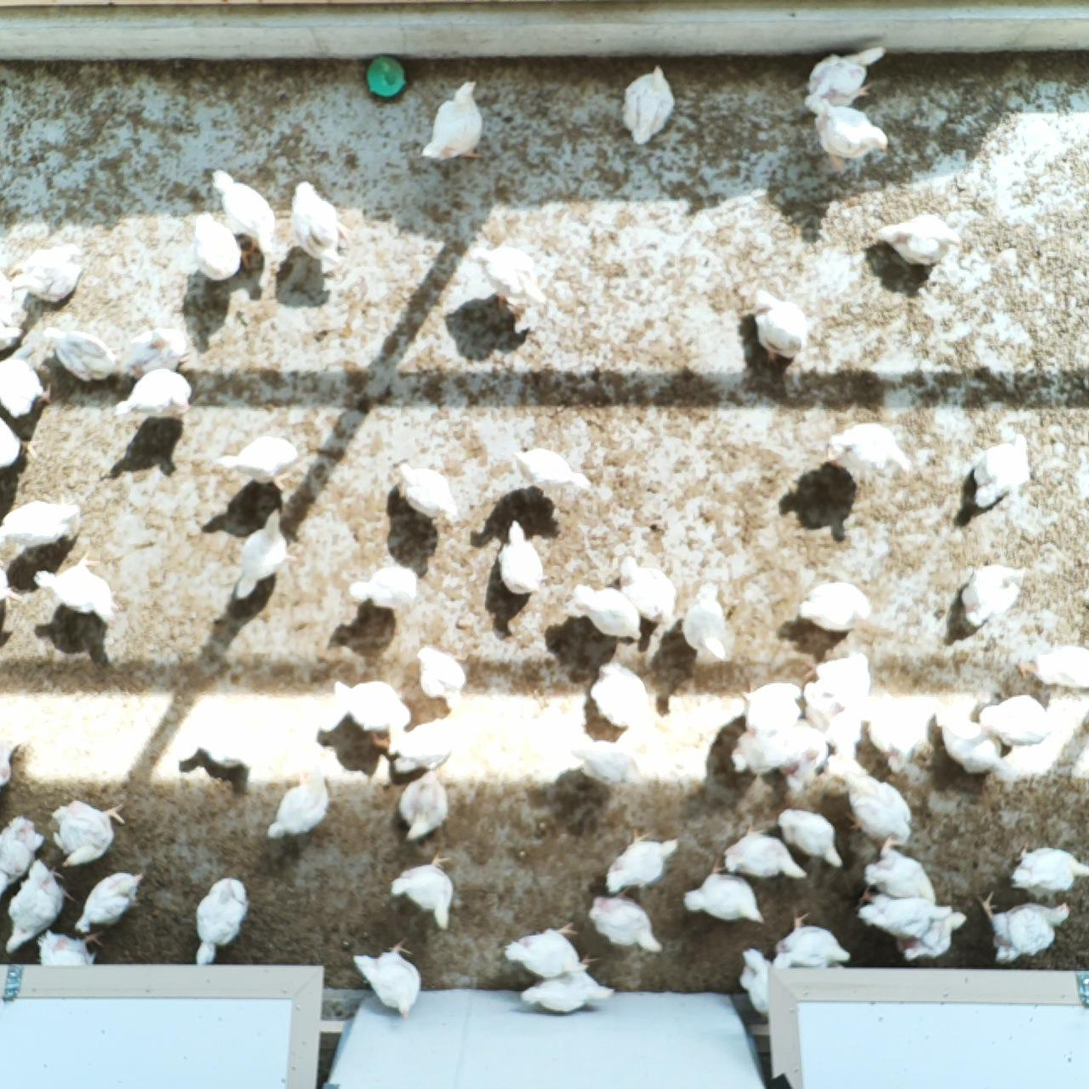chicken: (798, 93, 894, 172), (979, 889, 1075, 968), (833, 760, 913, 846), (5, 852, 71, 952), (211, 167, 282, 259), (802, 43, 894, 113), (521, 954, 623, 1016), (348, 935, 421, 1020), (227, 503, 289, 603), (289, 179, 354, 274), (420, 76, 486, 167), (472, 243, 549, 321), (32, 556, 119, 625), (855, 833, 938, 905), (327, 673, 412, 743), (585, 661, 665, 735), (848, 884, 954, 939), (266, 761, 337, 843), (389, 850, 456, 935), (682, 862, 769, 927), (825, 421, 913, 485), (191, 874, 250, 969), (968, 429, 1034, 512), (873, 210, 965, 269), (585, 891, 667, 957), (49, 797, 125, 868), (865, 696, 933, 775), (617, 62, 676, 153), (955, 562, 1028, 635), (499, 919, 589, 978), (565, 582, 644, 647), (798, 652, 878, 716), (111, 366, 196, 426), (770, 914, 855, 973), (745, 286, 811, 361), (936, 711, 1011, 777), (773, 802, 845, 870), (13, 238, 86, 305), (563, 729, 643, 790), (604, 828, 683, 889), (189, 208, 253, 283), (715, 826, 805, 879), (1004, 841, 1089, 897), (390, 765, 450, 844), (184, 709, 258, 773), (387, 716, 461, 779), (115, 323, 197, 379), (37, 325, 116, 383), (77, 864, 145, 931), (795, 577, 875, 633), (220, 433, 301, 487), (680, 578, 731, 663), (616, 554, 676, 626), (394, 459, 462, 522), (0, 498, 83, 549), (511, 443, 592, 494), (980, 693, 1051, 749), (415, 641, 469, 714), (495, 518, 544, 598), (778, 723, 831, 794), (0, 812, 45, 893), (898, 909, 968, 961), (738, 677, 803, 732), (351, 561, 418, 613), (0, 351, 51, 417), (1010, 643, 1089, 685), (32, 926, 103, 969), (738, 950, 784, 1016), (824, 699, 867, 765), (734, 731, 797, 774), (0, 417, 41, 470), (0, 271, 23, 354), (0, 728, 25, 787)
